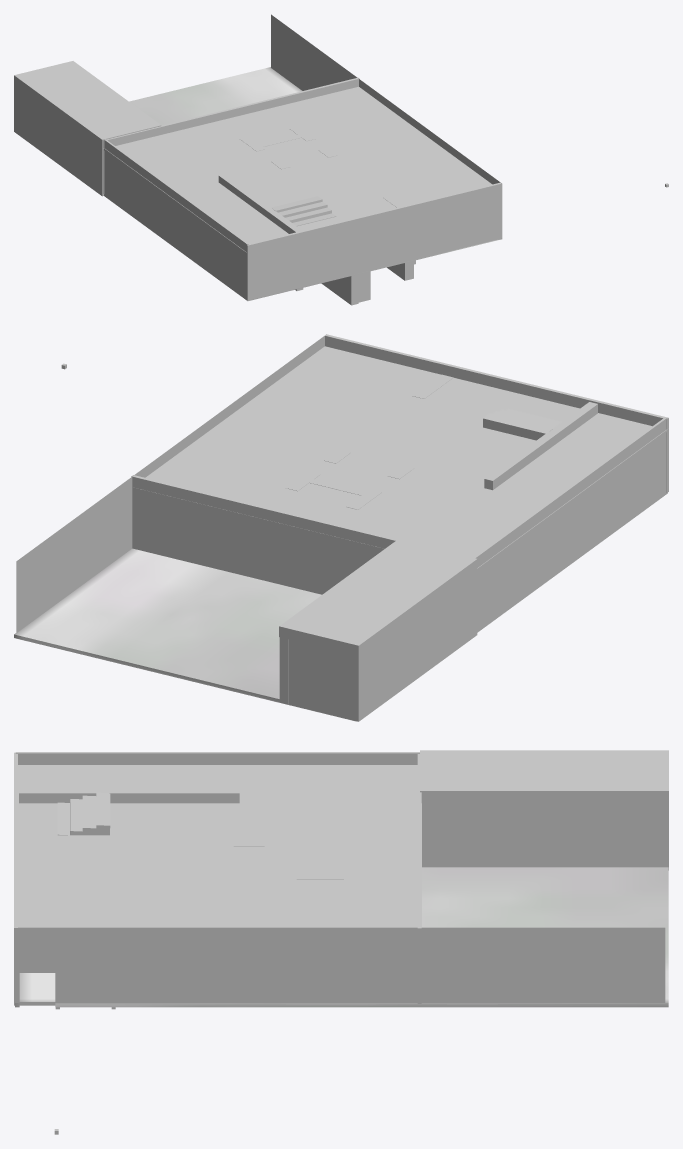
The model's file is school.gltf.
The picture shows the model from 3 angles, top to bottom: view 1: azimuth 30°, elevation 25°; view 2: azimuth 150°, elevation 25°; view 3: azimuth 270°, elevation 25°; orthographic projection. The views are drawn at different scales.
Parts seen in each view (by area): view 1: CSGCombiner3D22; view 2: CSGCombiner3D22; view 3: CSGCombiner3D22.
Part boxes in pixels (box(x1,y1,x2,y2)): CSGCombiner3D22: box(14, 14, 668, 305); CSGCombiner3D22: box(14, 334, 668, 721); CSGCombiner3D22: box(14, 750, 668, 1134).
Size of the model in its own units: 68.76 by 13 by 63.23.
3 materials, 1 textured.
